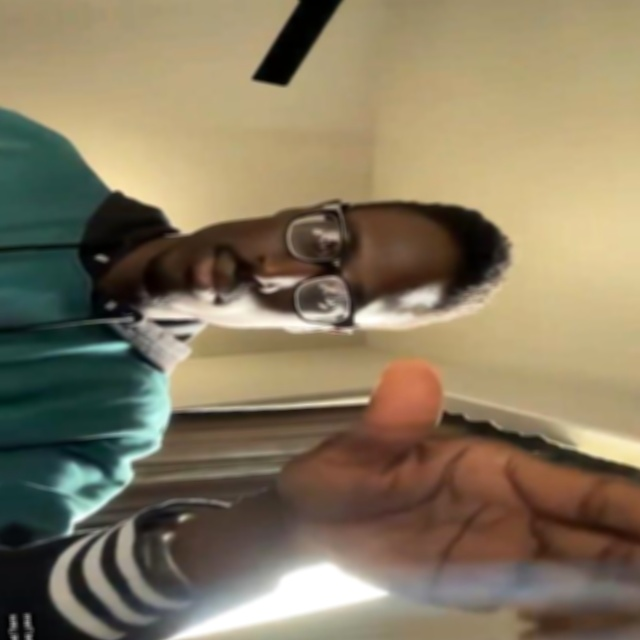Paper: (262, 345, 640, 640)
